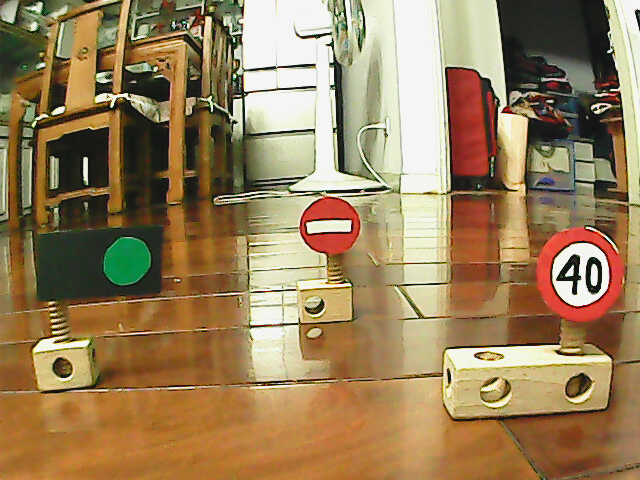Green Traffic Light: (98, 231, 161, 293)
Speed Limit 40: (532, 223, 628, 326)
Stop Sign: (297, 195, 363, 257)
